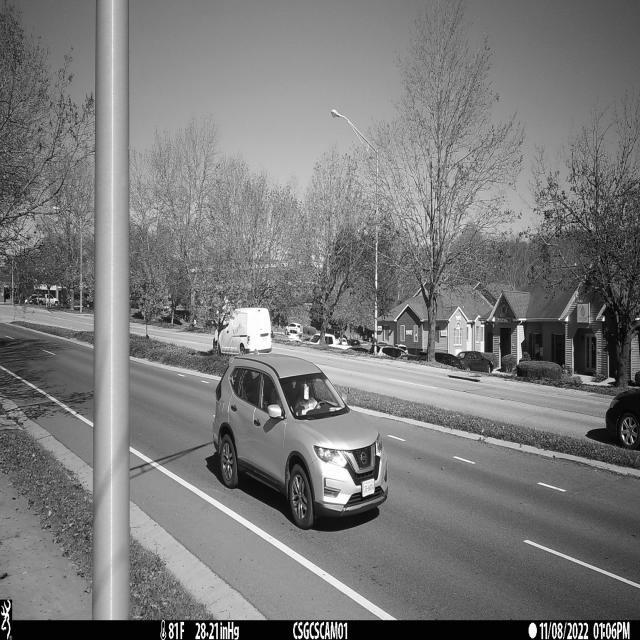SUV: (212, 355, 387, 530)
